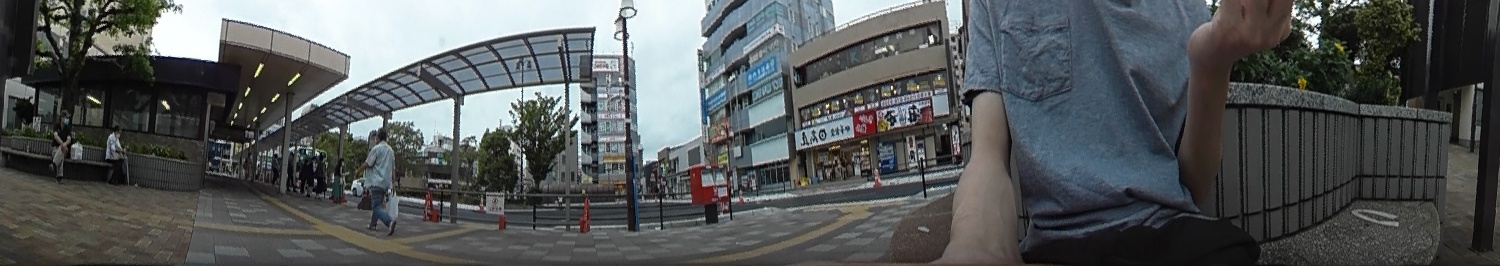difficult_person: (332, 155, 347, 201), (286, 149, 298, 197), (315, 151, 326, 198), (306, 155, 316, 194), (243, 151, 254, 181), (270, 152, 279, 184)
person: (364, 127, 399, 230), (50, 108, 73, 181), (105, 127, 129, 186)
